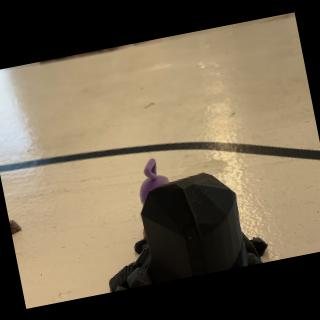teletubby: (139, 158, 169, 205)
